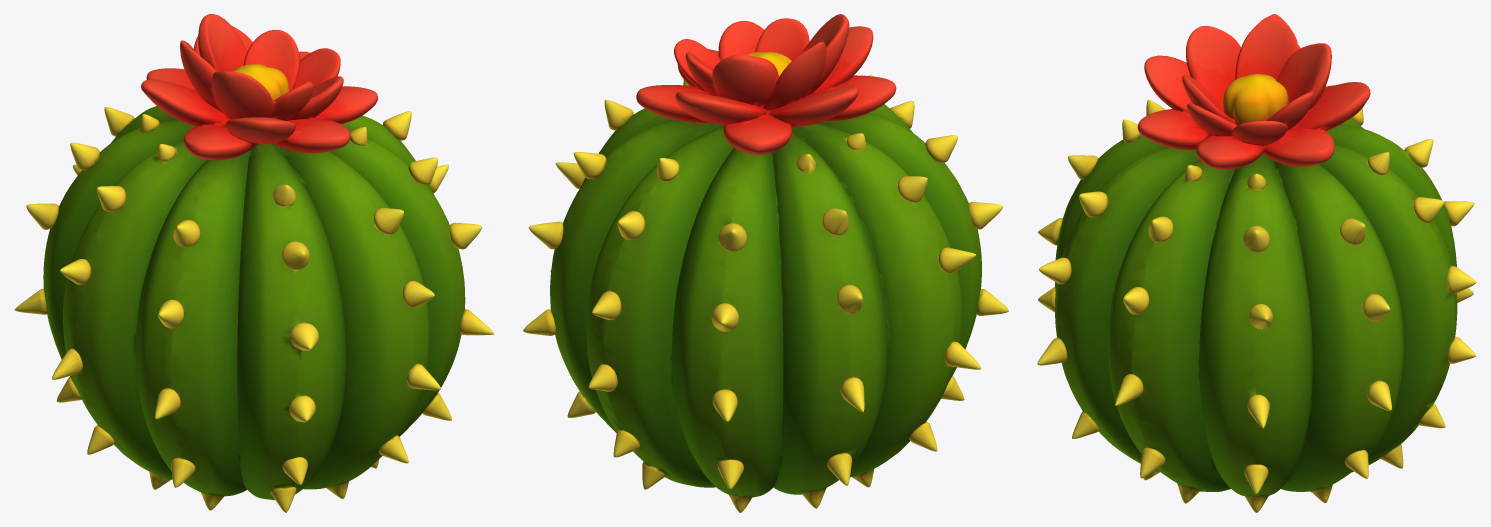
The model's file is cactus_barrel.glb.
3 views of the same model, side by side, from view 1: azimuth 30°, elevation 25°; view 2: azimuth 150°, elevation 25°; view 3: azimuth 270°, elevation 25° (orthographic). The views are drawn at different scales.
Visible parts, largest first — view 1: tripo_node_0a5dca9e-86b1-44a8-8923-97bc530cceed; view 2: tripo_node_0a5dca9e-86b1-44a8-8923-97bc530cceed; view 3: tripo_node_0a5dca9e-86b1-44a8-8923-97bc530cceed.
Part boxes in pixels (x1,y1,x2,y2): tripo_node_0a5dca9e-86b1-44a8-8923-97bc530cceed: (14, 14, 494, 512); tripo_node_0a5dca9e-86b1-44a8-8923-97bc530cceed: (523, 14, 1008, 512); tripo_node_0a5dca9e-86b1-44a8-8923-97bc530cceed: (1037, 14, 1476, 512).
Bounding box in the file's own units: 0.8914 × 0.9001 × 0.8417.
Materials: 1 (1 with a texture image).
